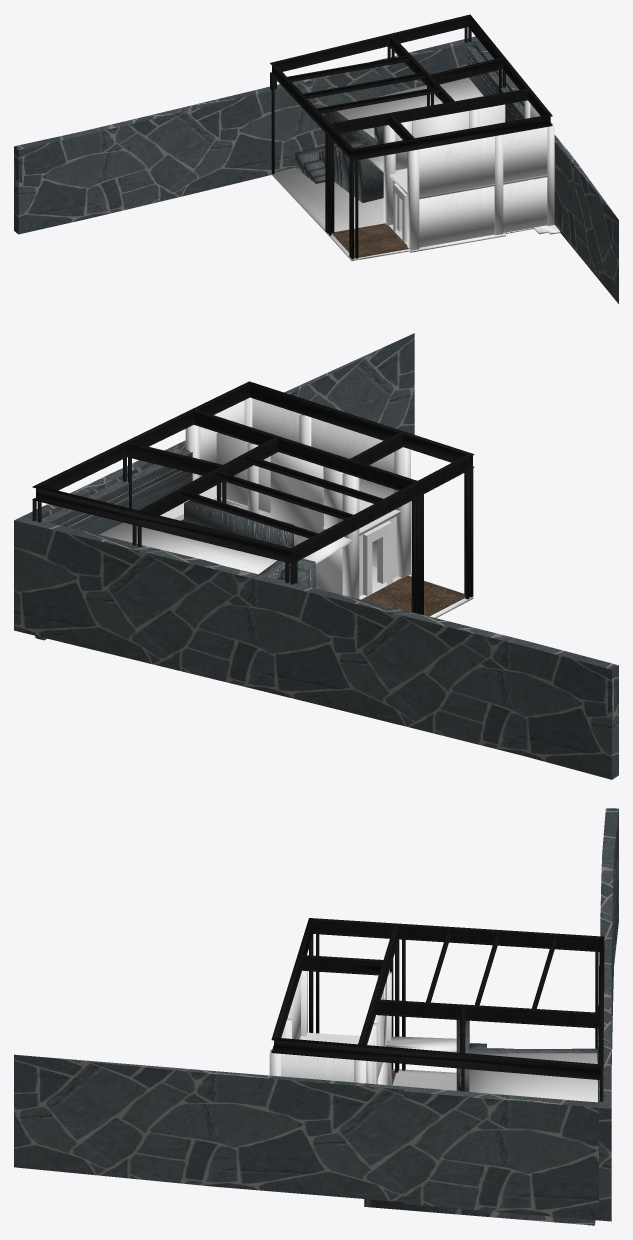
File: materiales.glb
The picture shows the model from 3 angles, top to bottom: view 1: azimuth 30°, elevation 25°; view 2: azimuth 150°, elevation 25°; view 3: azimuth 270°, elevation 25°; orthographic projection. The views are drawn at different scales.
Parts seen in each view (by area): view 1: Mampostería, Estuco, Metal, Obj_000003, Obj_000096; view 2: Mampostería, Metal, Estuco, Obj_000096, Obj_000003, Obj_000092, Obj_000095; view 3: Mampostería, Metal, Estuco, Obj_000096.
Part boxes in pixels (bbox=[...]): Mampostería: bbox=[14, 36, 618, 303]; Estuco: bbox=[271, 77, 560, 260]; Metal: bbox=[270, 14, 552, 259]; Obj_000003: bbox=[331, 223, 408, 258]; Obj_000096: bbox=[467, 46, 524, 122]; Mampostería: bbox=[14, 333, 618, 779]; Metal: bbox=[32, 381, 474, 614]; Estuco: bbox=[99, 397, 473, 618]; Obj_000096: bbox=[35, 452, 192, 640]; Obj_000003: bbox=[361, 575, 465, 616]; Obj_000092: bbox=[367, 522, 392, 595]; Obj_000095: bbox=[359, 516, 396, 596]; Mampostería: bbox=[14, 808, 618, 1221]; Metal: bbox=[271, 918, 604, 1101]; Estuco: bbox=[269, 970, 597, 1102]; Obj_000096: bbox=[364, 1199, 595, 1225].
Bounding box in the file's own units: 24.06 × 6 × 20.46.
Materials: 4 (4 with a texture image).
